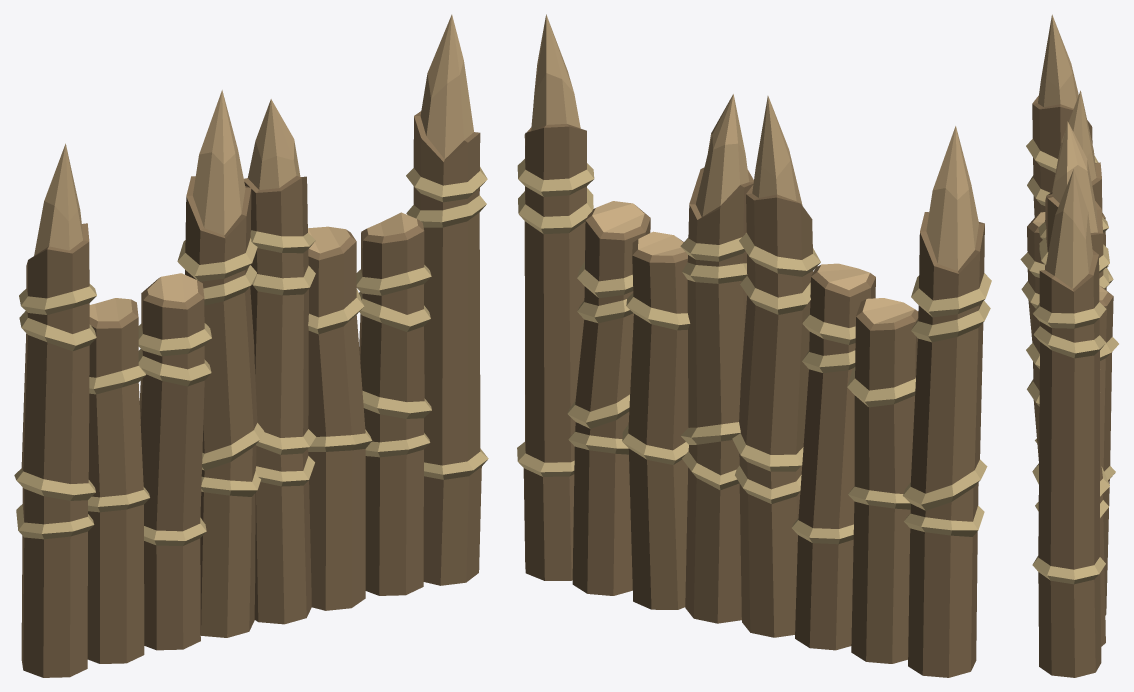
The model's file is rpgpp_ag_stockade_01d_4x4.fbx.
3 views of the same model, side by side, from view 1: azimuth 30°, elevation 25°; view 2: azimuth 150°, elevation 25°; view 3: azimuth 270°, elevation 25° (orthographic). The views are drawn at different scales.
Parts seen in each view (by area): view 1: rpgpp_ag_stockade_01d_4x4; view 2: rpgpp_ag_stockade_01d_4x4; view 3: rpgpp_ag_stockade_01d_4x4.
Part boxes in pixels (left/top/right/bottom): rpgpp_ag_stockade_01d_4x4: left=14, top=14, right=488, bottom=677; rpgpp_ag_stockade_01d_4x4: left=517, top=14, right=991, bottom=677; rpgpp_ag_stockade_01d_4x4: left=1020, top=14, right=1118, bottom=677.
Bounding box in the file's own units: 4.14 × 4.72 × 0.8463.
